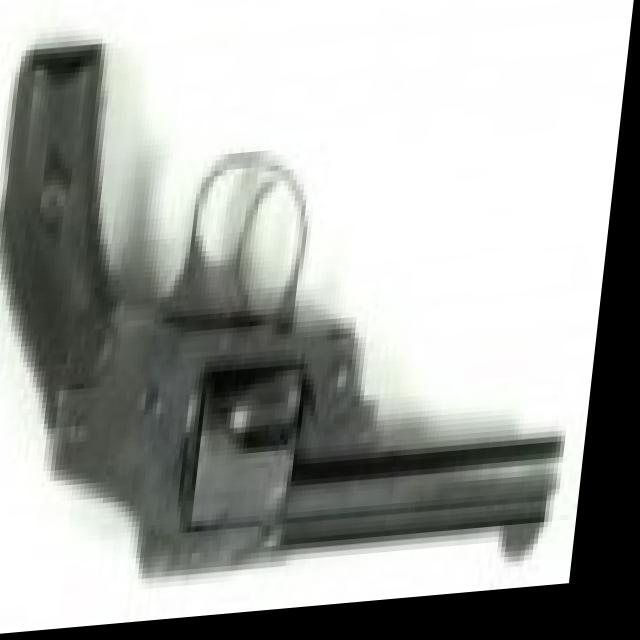handgun: (0, 11, 607, 606)
